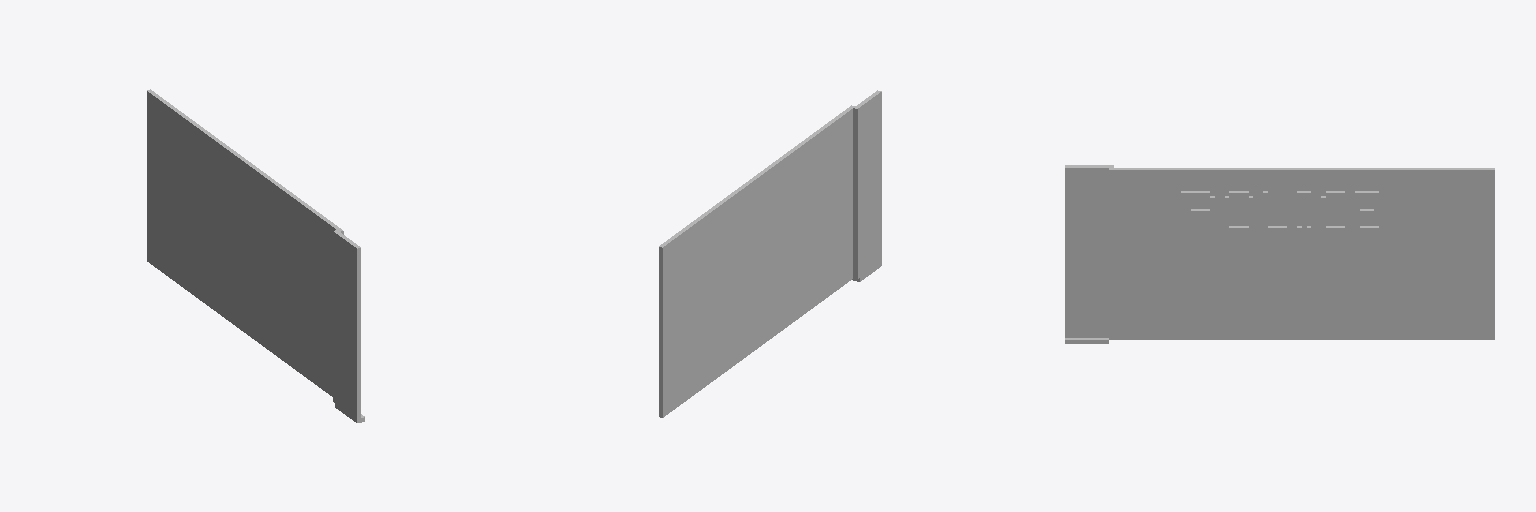
Rendered from Police Good-1-Est wall.obj.
The picture shows the model from 3 angles: view 1: azimuth 30°, elevation 25°; view 2: azimuth 150°, elevation 25°; view 3: azimuth 270°, elevation 25°; orthographic projection.
Parts seen in each view (by area): view 1: Est wall; view 2: Est wall; view 3: Est wall.
Boxes of the visible parts, x1=… form: Est wall: x1=147, y1=89, x2=364, y2=422; Est wall: x1=659, y1=90, x2=881, y2=417; Est wall: x1=1065, y1=165, x2=1494, y2=343.
Size of the model in its own units: 0.3 by 4 by 8.9.